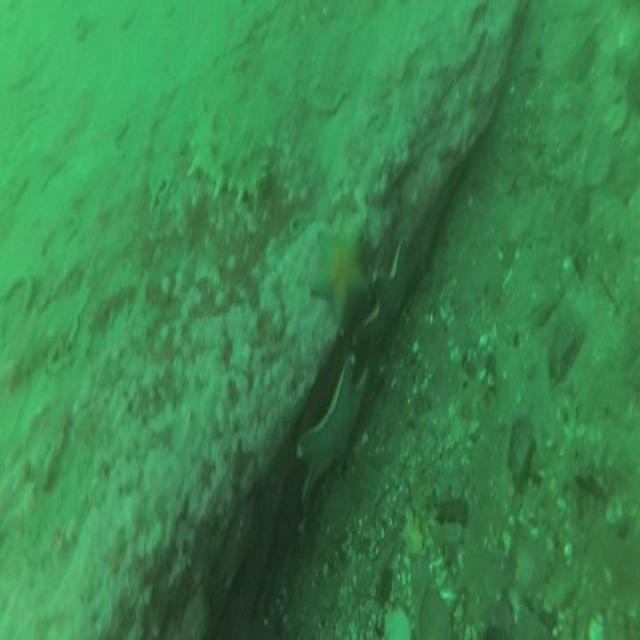holothurian: (188, 100, 270, 200)
starfish: (291, 354, 369, 515), (356, 240, 422, 346), (311, 223, 373, 332)
